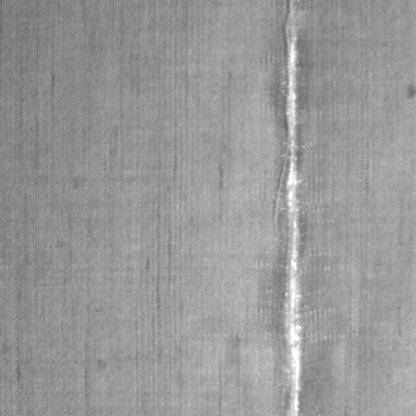hole: (271, 1, 312, 415)
